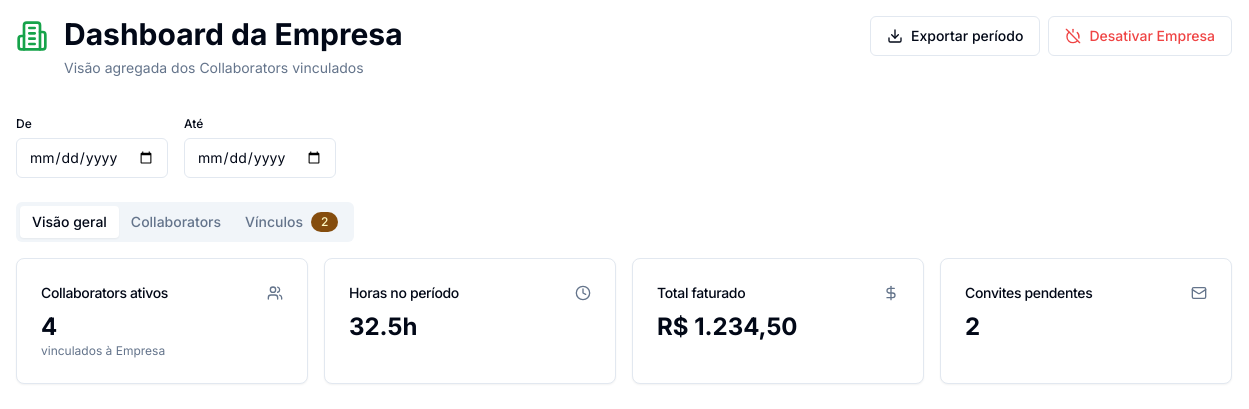
Test: CompanyAdminDashboardPage › shows the empty state when there are no Collaborators
Click the tab "Collaborators". click: (176, 222)
box: [119,206,233,238]
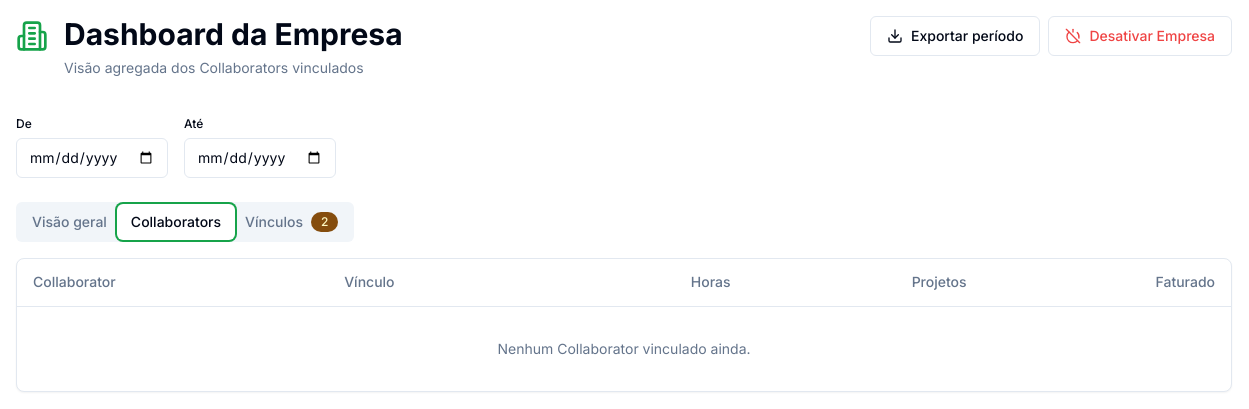
Now the text "Nenhum Collaborator vinculado ainda." is shown, box [17,306,1231,391]
